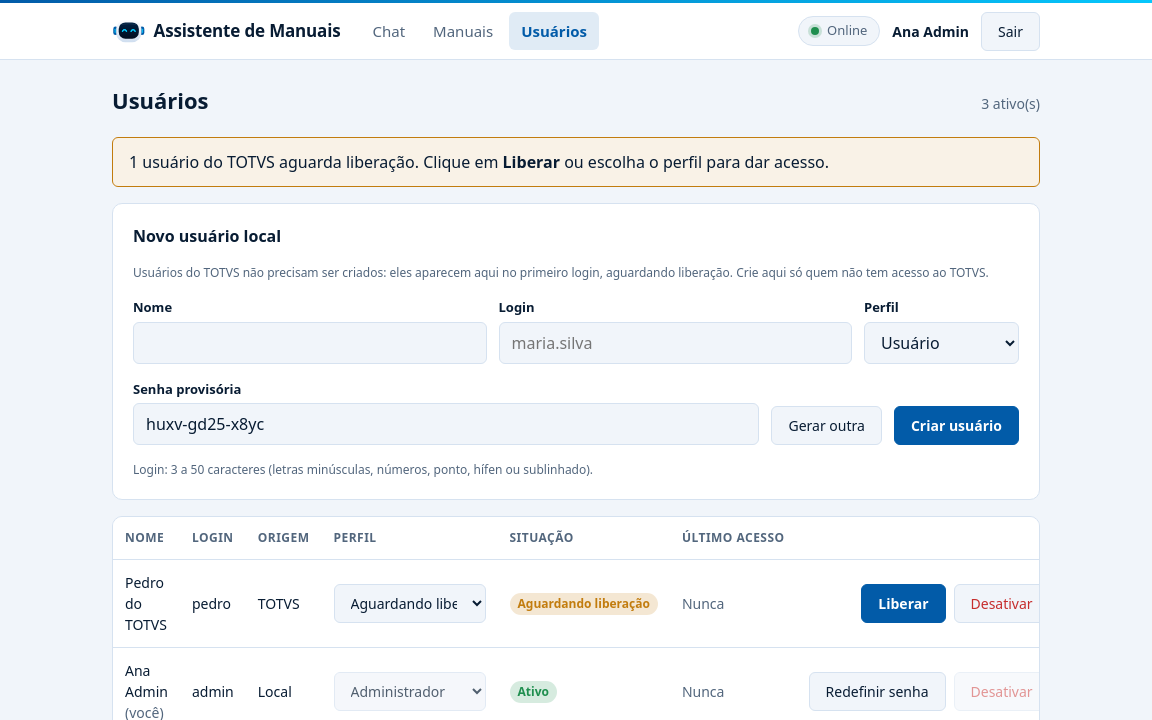
<UsersAdmin /> › shows the reason when creation is refused
Check: the table is shown, box [113, 517, 1040, 719]
Type "Outro João" into the field labelled "Nome" at (310, 342), box [133, 322, 486, 364]
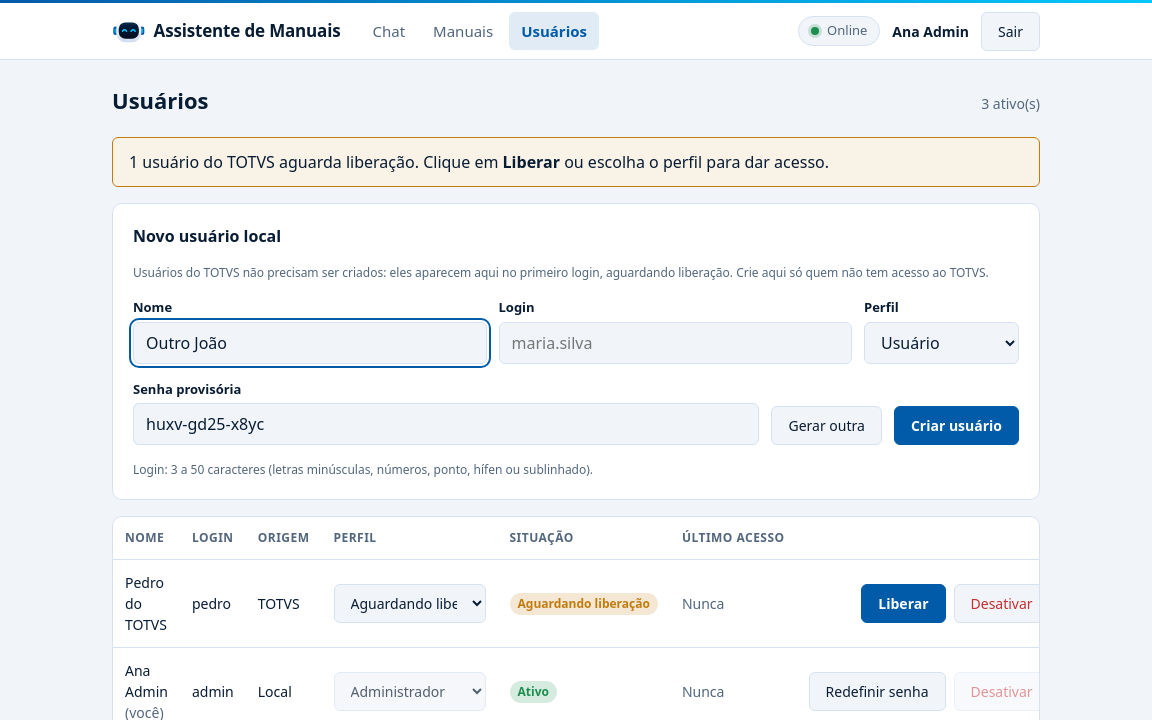
Type "joao" into the field labelled "Login" at (675, 342), box [498, 322, 852, 364]
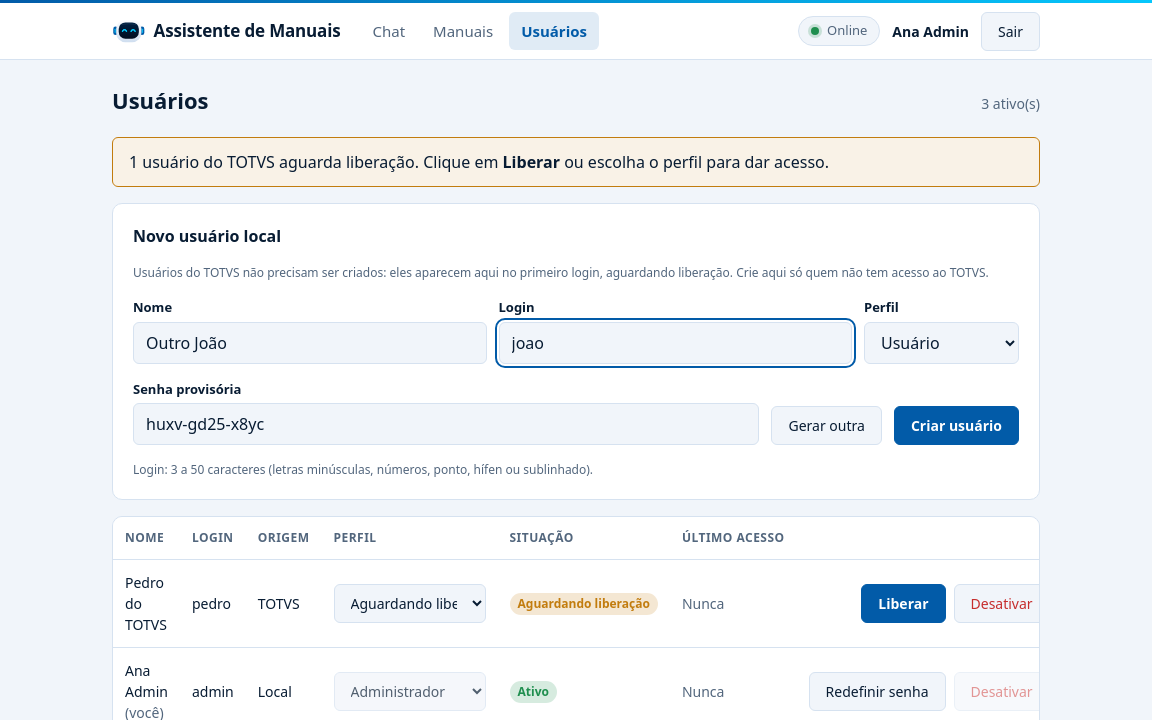
Click the button "Criar usuário" at (956, 426), box [894, 406, 1019, 445]
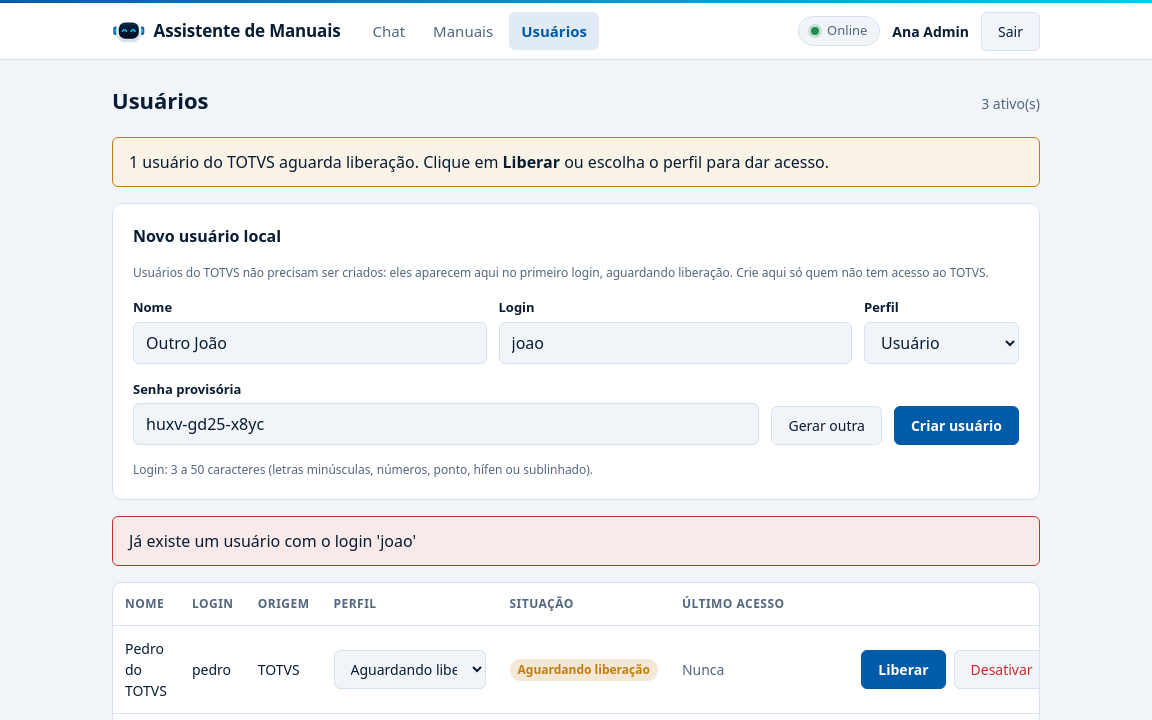
Check: the message "Já existe um usuário com o login 'joao'" is shown, box [112, 516, 1040, 566]
